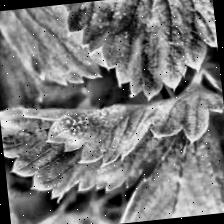Powdery Mildew Leaf: (0, 70, 224, 204)
